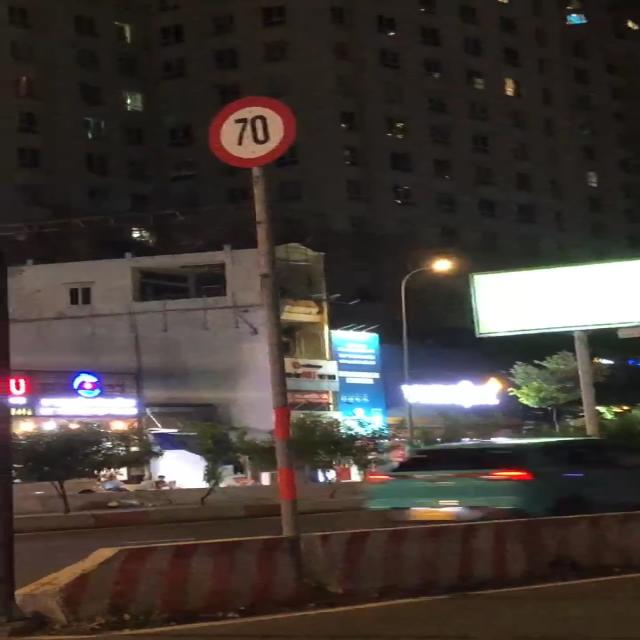Bien bao toc do toi da cho phep: (201, 95, 307, 169)
